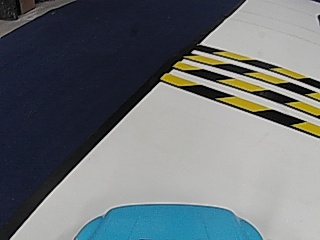bump: (184, 46, 315, 129)
